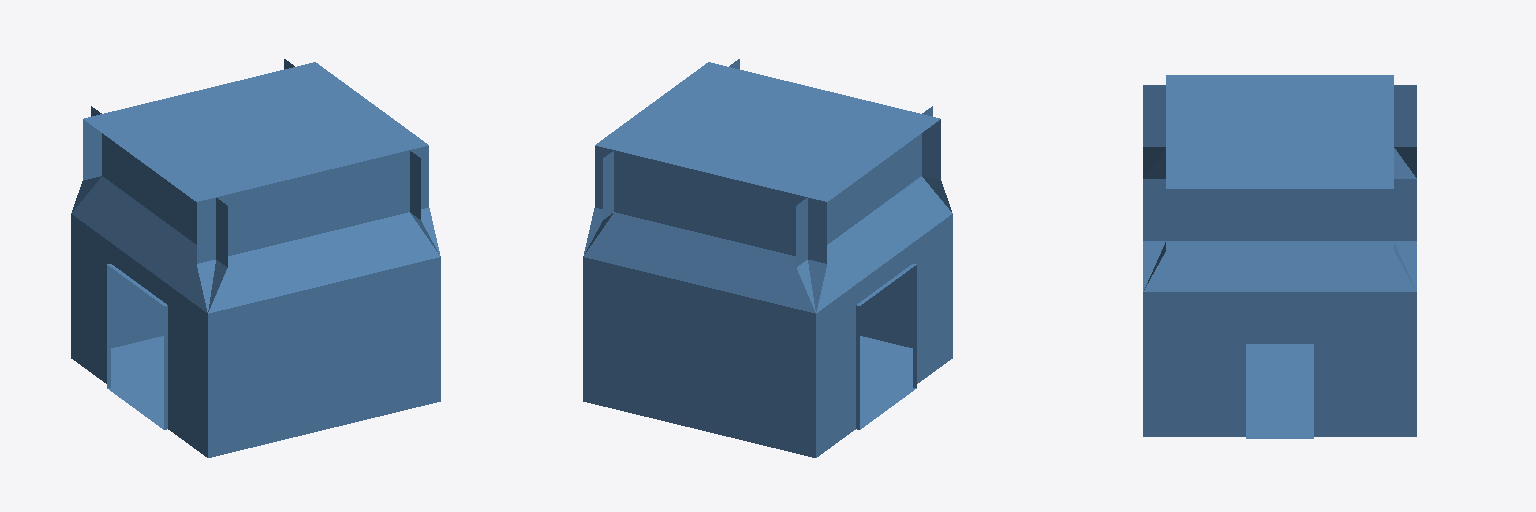
Rendered from OZ-CZ-Connect-Room.obj.
3 views of the same model, side by side, from view 1: azimuth 30°, elevation 25°; view 2: azimuth 150°, elevation 25°; view 3: azimuth 270°, elevation 25° (orthographic).
Visible parts, largest first — view 1: OZ-CZ-Connect-Room; view 2: OZ-CZ-Connect-Room; view 3: OZ-CZ-Connect-Room.
Part boxes in pixels (bbox=[...]): OZ-CZ-Connect-Room: bbox=[71, 59, 440, 457]; OZ-CZ-Connect-Room: bbox=[583, 59, 952, 457]; OZ-CZ-Connect-Room: bbox=[1143, 75, 1416, 438].
Size of the model in its own units: 6.1 by 6 by 6.